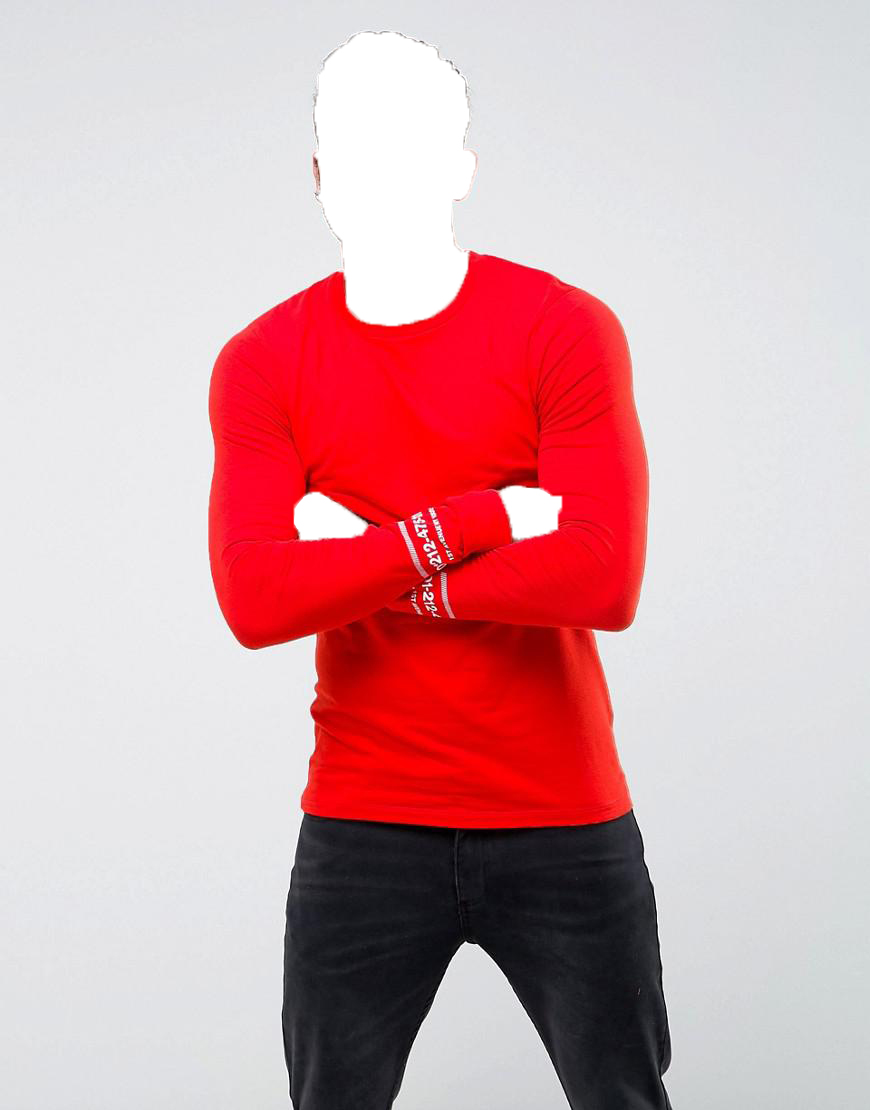teeshirt: (190, 239, 673, 835)
